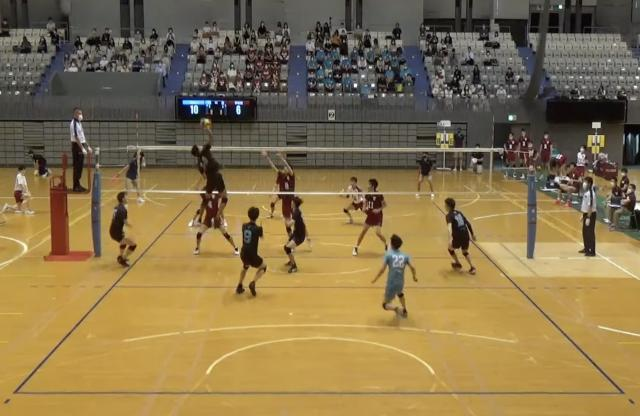spike: (186, 116, 232, 233)
